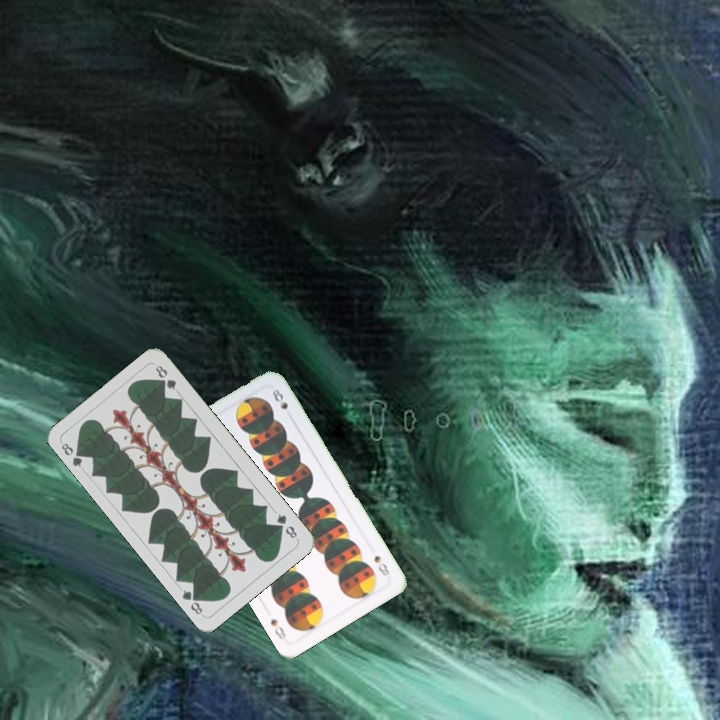G8: (57, 438, 88, 470), (272, 509, 300, 542)
S8: (370, 551, 392, 579)
